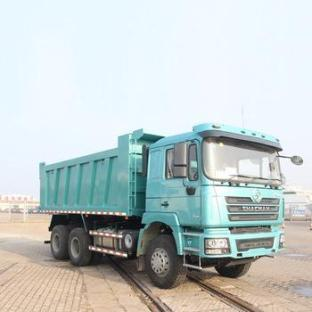Vehicle: (30, 114, 312, 293)
